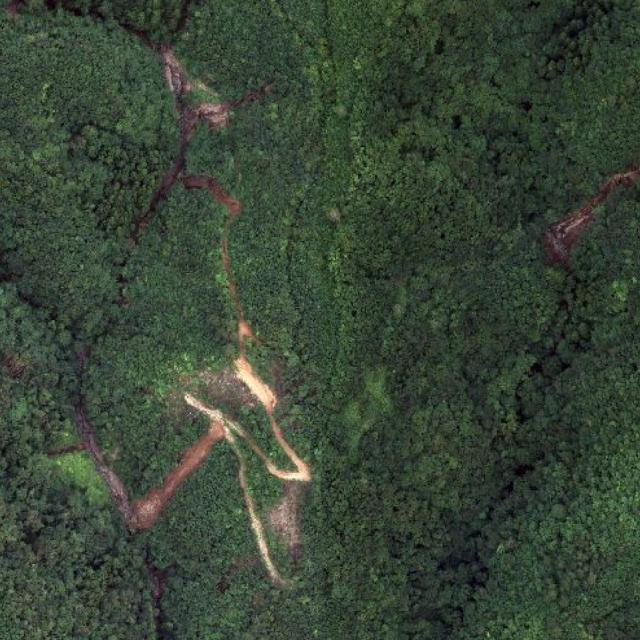landslide: (123, 23, 233, 241), (544, 167, 640, 270), (235, 358, 277, 412)
